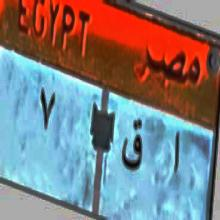7: (30, 87, 61, 136)
alif: (164, 124, 182, 184)
qaaf: (121, 116, 146, 185)
